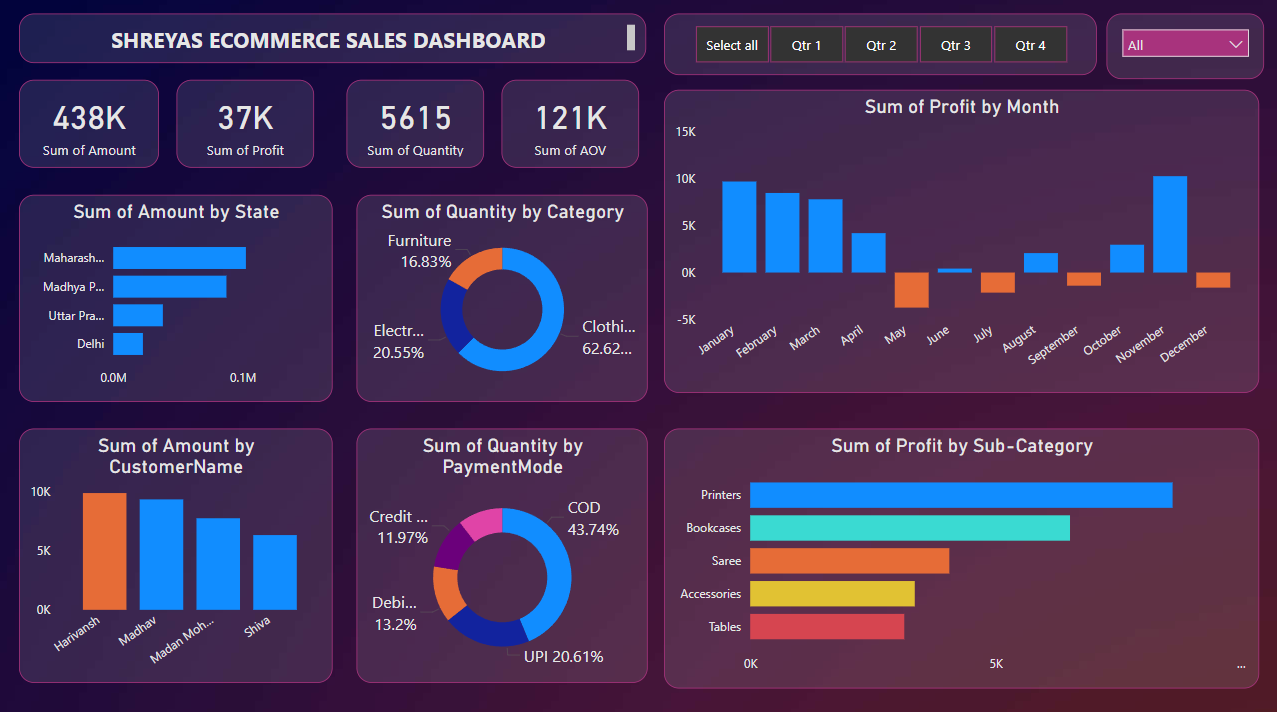

What the dashboard file says about the page in this screenshot:
{"tool":"powerbi","page":{"name":"Page 1","canvas":[1280,720],"ordinal":0},"visuals":[{"type":"textbox","box":[20.5,18.1,627.3,49.5],"z":0},{"type":"columnChart","fields":{"Category":["Orders.Order Date.Variation.Date Hierarchy.Month"],"Y":["Details.Profit"]},"box":[664.9,93.4,594.8,303.6],"z":1000},{"type":"barChart","fields":{"Category":["Details.Sub-Category"],"Y":["Details.Profit"]},"box":[664.9,432.7,594.8,259.6],"z":2000},{"type":"donutChart","fields":{"Category":["Details.Category"],"Y":["Details.Quantity"]},"box":[357.2,199.2,291.2,207.4],"z":3000},{"type":"donutChart","fields":{"Category":["Details.PaymentMode"],"Y":["Details.Quantity"]},"box":[357.2,432.7,291.2,254.1],"z":4000},{"type":"card","fields":{"Values":["Details.Amount"]},"box":[20.6,83.8,140.1,87.9],"z":5000},{"type":"card","fields":{"Values":["Details.Profit"]},"box":[177.2,83.8,137.4,87.9],"z":6000},{"type":"card","fields":{"Values":["Details.Quantity"]},"box":[347.5,83.8,137.4,87.9],"z":7000},{"type":"card","fields":{"Values":["Details.AOV"]},"box":[502.8,83.8,137.4,87.9],"z":8000},{"type":"barChart","fields":{"Category":["Orders.State"],"Y":["Details.Amount"]},"box":[20.6,199.2,313.2,207.4],"z":9000},{"type":"columnChart","fields":{"Category":["Orders.CustomerName"],"Y":["Details.Amount"]},"box":[20.6,432.7,313.2,254.1],"z":10000},{"type":"slicer","fields":{"Values":["Orders.Order Date.Variation.Date Hierarchy.Quarter"]},"box":[664.9,17.9,432.7,61.8],"z":11000},{"type":"slicer","fields":{"Values":["Orders.State"]},"box":[1107.2,17.9,158,65.9],"z":12000}]}

Visuals, with their boxes in screenshot pixels (x1, y1, x2, y2), scaled from the page's 1280x720 canvas onto the 1277x712 screenshot:
textbox: (x1=20, y1=18, x2=646, y2=67)
columnChart - Orders.Order Date.Variation.Date Hierarchy.Month x Details.Profit: (x1=663, y1=92, x2=1257, y2=393)
barChart - Details.Sub-Category x Details.Profit: (x1=663, y1=428, x2=1257, y2=685)
donutChart - Details.Category x Details.Quantity: (x1=356, y1=197, x2=647, y2=402)
donutChart - Details.PaymentMode x Details.Quantity: (x1=356, y1=428, x2=647, y2=679)
card - Details.Amount: (x1=21, y1=83, x2=160, y2=170)
card - Details.Profit: (x1=177, y1=83, x2=314, y2=170)
card - Details.Quantity: (x1=347, y1=83, x2=484, y2=170)
card - Details.AOV: (x1=502, y1=83, x2=639, y2=170)
barChart - Orders.State x Details.Amount: (x1=21, y1=197, x2=333, y2=402)
columnChart - Orders.CustomerName x Details.Amount: (x1=21, y1=428, x2=333, y2=679)
slicer - Orders.Order Date.Variation.Date Hierarchy.Quarter: (x1=663, y1=18, x2=1095, y2=79)
slicer - Orders.State: (x1=1105, y1=18, x2=1262, y2=83)
